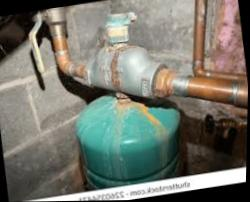leak: (102, 50, 164, 149)
